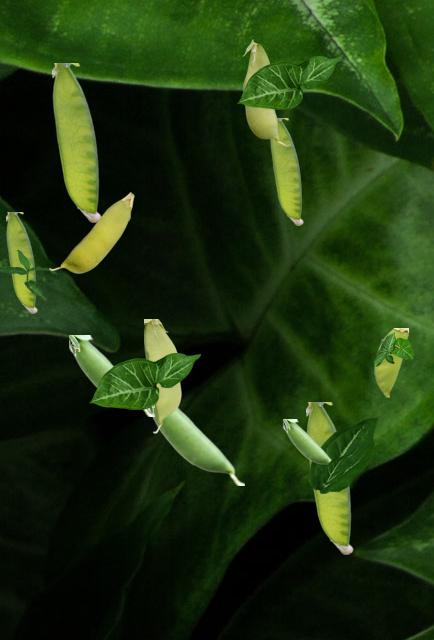pea: (52, 63, 100, 221), (149, 406, 243, 484), (306, 402, 352, 553), (49, 192, 133, 272), (69, 335, 153, 415), (242, 39, 289, 145), (144, 319, 180, 432), (270, 118, 302, 224), (6, 212, 36, 312), (374, 328, 407, 396), (283, 419, 331, 464)
